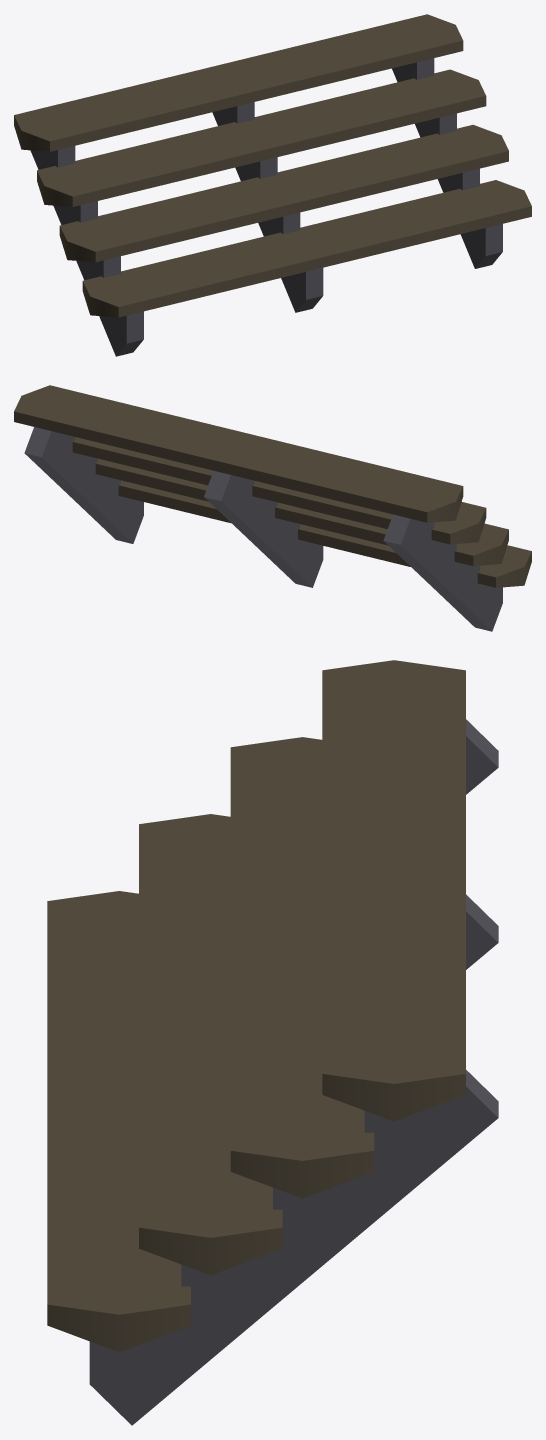
Rendered from LPSciFi_ShortDoubleStairs.fbx.
3 views of the same model, one above another, from view 1: azimuth 30°, elevation 25°; view 2: azimuth 150°, elevation 25°; view 3: azimuth 270°, elevation 25° (orthographic). The views are drawn at different scales.
Visible parts, largest first — view 1: ShortDoubleStairs; view 2: ShortDoubleStairs; view 3: ShortDoubleStairs.
Boxes of the visible parts, x1,y1,x2,y2 form: ShortDoubleStairs: [14, 14, 531, 356]; ShortDoubleStairs: [14, 385, 531, 631]; ShortDoubleStairs: [47, 660, 498, 1425].
Size of the model in its own units: 235 by 95.88 by 106.
